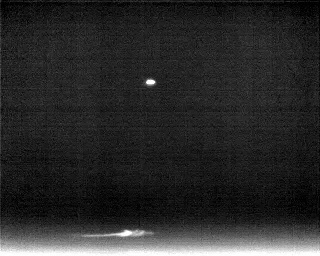AIRPLANE: (144, 76, 157, 88)
